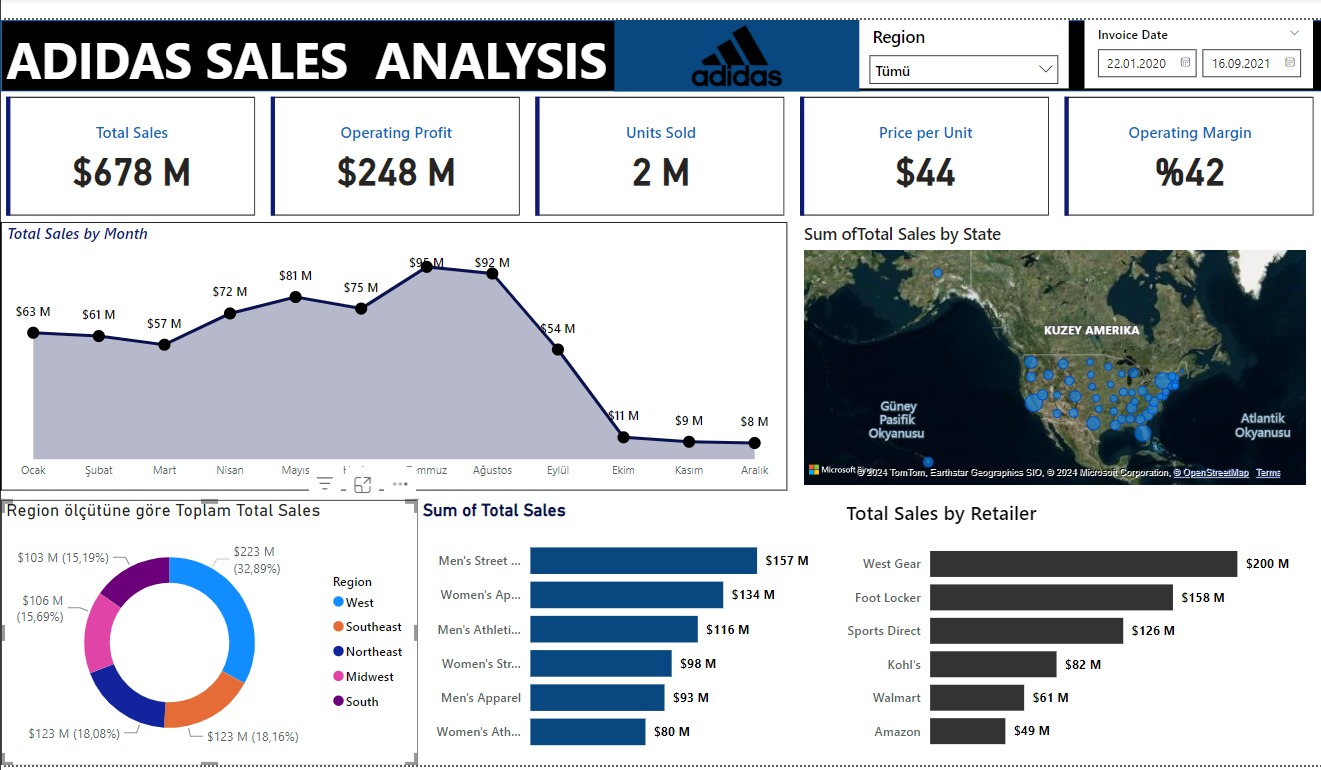

The page's visual inventory and layout, read from the dashboard file:
{"tool":"powerbi","page":{"name":"1. sayfa","canvas":[1280,720],"ordinal":0},"visuals":[{"type":"shape","box":[0,0,1279.7,69.3],"z":0},{"type":"textbox","box":[0,0,639.9,69.3],"z":1000},{"type":"cardVisual","fields":{"Data":["Sum(Data Sales Adidas.Total Sales)","Sum(Data Sales Adidas.Operating Profit)","Sum(Data Sales Adidas.Units Sold)","Avg(Data Sales Adidas.Price per Unit)","Avg(Data Sales Adidas.Operating Margin)"]},"box":[0,69.3,1279.7,125.7],"z":2000},{"type":"areaChart","title":" Total Sales by Month","fields":{"Category":["Data Sales Adidas.Invoice Date.Varyasyon.Tarih Hiyerarşisi.Ay"],"Y":["Sum(Data Sales Adidas.Total Sales)"]},"box":[0,195,760.7,259.5],"z":3000},{"type":"map","title":"  Sum ofTotal Sales by State","fields":{"Category":["Data Sales Adidas.State"],"Size":["Sum(Data Sales Adidas.Total Sales)"]},"box":[772,195,496.4,259.5],"z":4000},{"type":"donutChart","fields":{"Category":["Data Sales Adidas.Region"],"Y":["Sum(Data Sales Adidas.Total Sales)"]},"box":[0,464.2,402.9,256.3],"z":4001},{"type":"barChart","title":"Sum of Total Sales","fields":{"Category":["Data Sales Adidas.Product"],"Y":["Sum(Data Sales Adidas.Total Sales)"]},"box":[402.9,464.2,385.2,256.3],"z":4002},{"type":"barChart","title":"Total Sales by Retailer","fields":{"Y":["Sum(Data Sales Adidas.Total Sales)"],"Category":["Data Sales Adidas.Retailer"]},"box":[812.3,462.6,441.6,256.3],"z":4003},{"type":"slicer","fields":{"Values":["Data Sales Adidas.Region"]},"box":[830,0,203.1,66.1],"z":4004},{"type":"image","box":[593.1,0,236.9,69.3],"z":4005},{"type":"slicer","fields":{"Values":["Data Sales Adidas.Invoice Date"]},"box":[1047.6,0,220.8,66.1],"z":4006}]}

Visuals, with their boxes in screenshot pixels (x1, y1, x2, y2):
shape: [left=0, top=14, right=1302, bottom=84]
textbox: [left=0, top=14, right=651, bottom=84]
cardVisual - Sum(Data Sales Adidas.Total Sales) x Sum(Data Sales Adidas.Operating Profit): [left=0, top=84, right=1302, bottom=212]
" Total Sales by Month" areaChart: [left=0, top=212, right=774, bottom=476]
"  Sum ofTotal Sales by State" map: [left=786, top=212, right=1291, bottom=476]
donutChart - Data Sales Adidas.Region x Sum(Data Sales Adidas.Total Sales): [left=0, top=486, right=410, bottom=747]
"Sum of Total Sales" barChart: [left=410, top=486, right=802, bottom=747]
"Total Sales by Retailer" barChart: [left=827, top=485, right=1276, bottom=745]
slicer - Data Sales Adidas.Region: [left=845, top=14, right=1051, bottom=81]
image: [left=604, top=14, right=845, bottom=84]
slicer - Data Sales Adidas.Invoice Date: [left=1066, top=14, right=1291, bottom=81]
